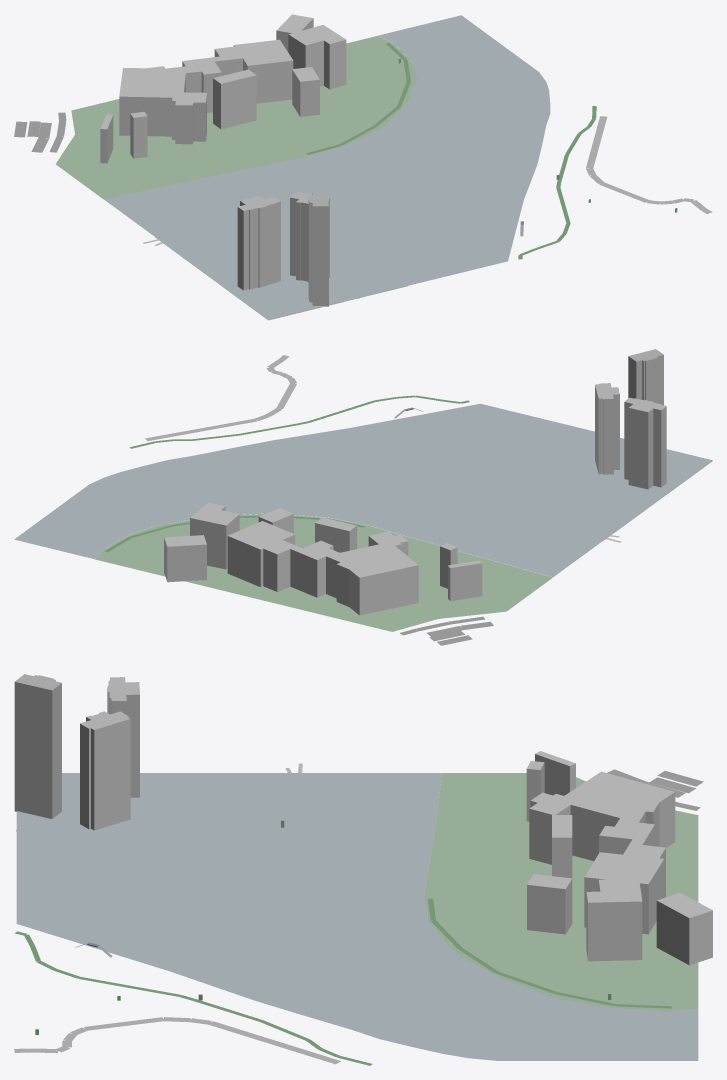
3 views of the same model, one above another, from view 1: azimuth 30°, elevation 25°; view 2: azimuth 150°, elevation 25°; view 3: azimuth 270°, elevation 25° (orthographic). The views are drawn at different scales.
Bounding box in the file's own units: 526 × 105 × 513.
